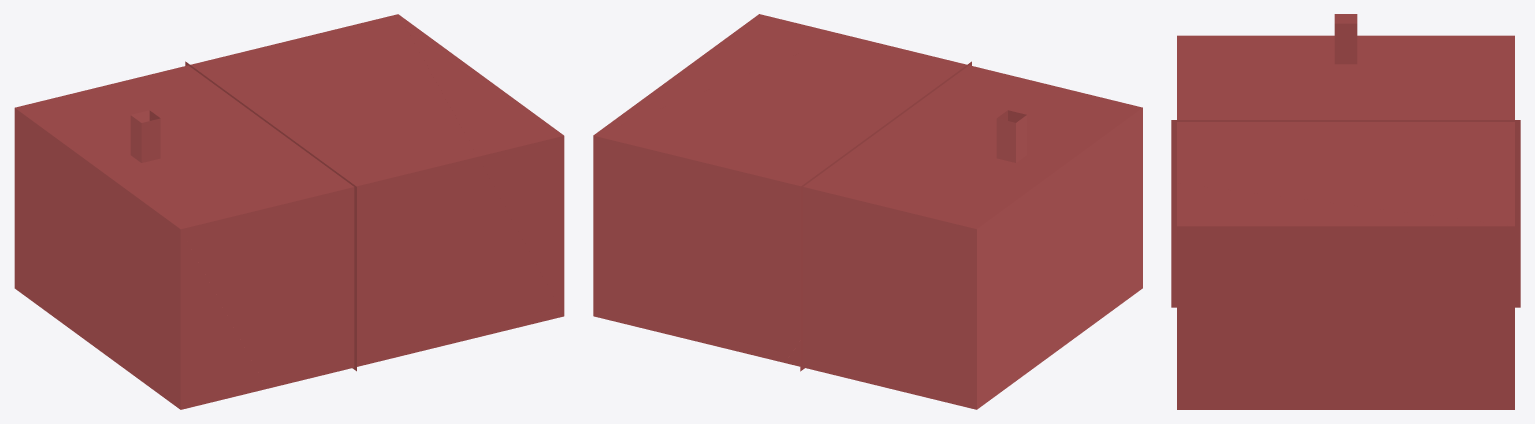
File: ex_luigi.glb
3 views of the same model, side by side, from view 1: azimuth 30°, elevation 25°; view 2: azimuth 150°, elevation 25°; view 3: azimuth 270°, elevation 25° (orthographic).
Parts seen in each view (by area): view 1: ex_luigi_col; view 2: ex_luigi_col; view 3: ex_luigi_col.
Boxes of the visible parts, <box> form: ex_luigi_col: <box>14,14,564,409</box>; ex_luigi_col: <box>593,14,1142,409</box>; ex_luigi_col: <box>1171,14,1520,409</box>.
Size of the model in its own units: 4 by 2.22 by 3.1.
